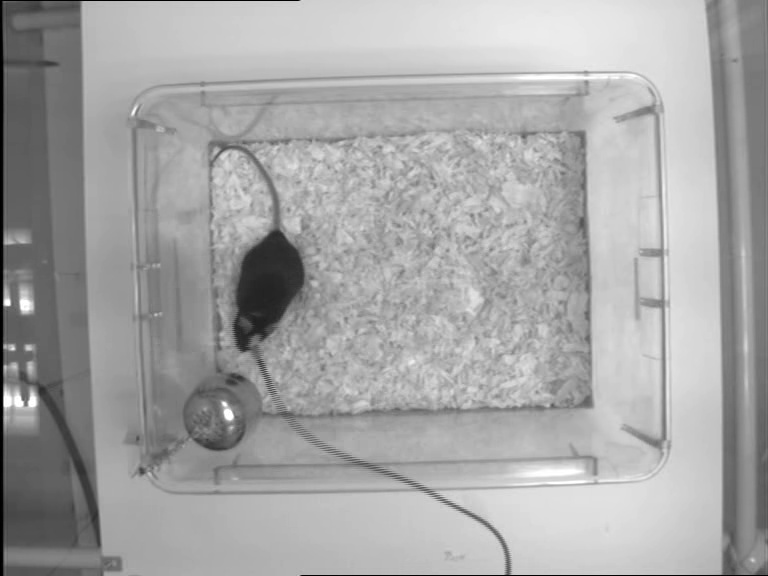mice: (209, 144, 309, 355)
